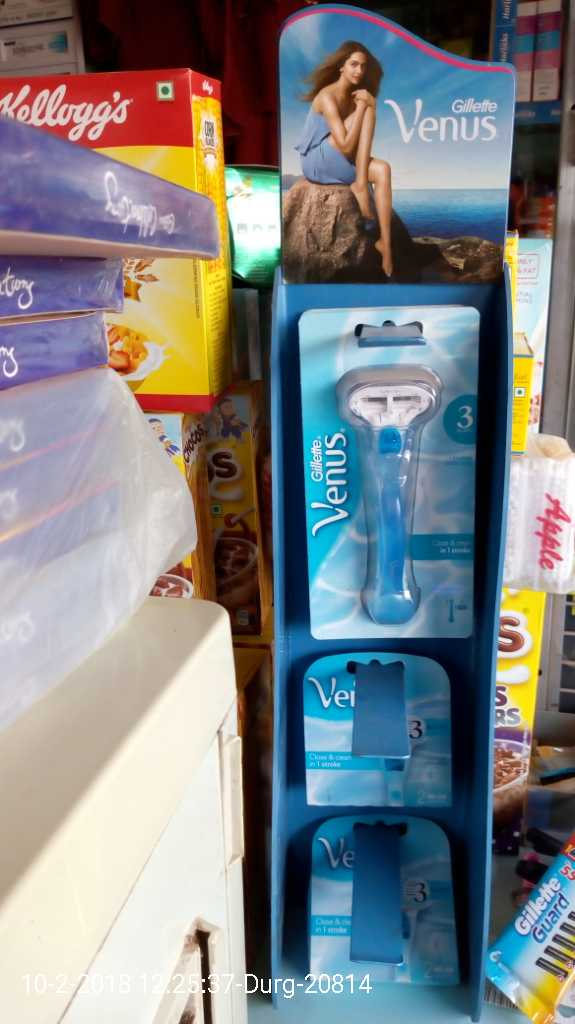venus: (298, 313, 477, 639), (313, 817, 455, 982), (308, 644, 447, 802)
